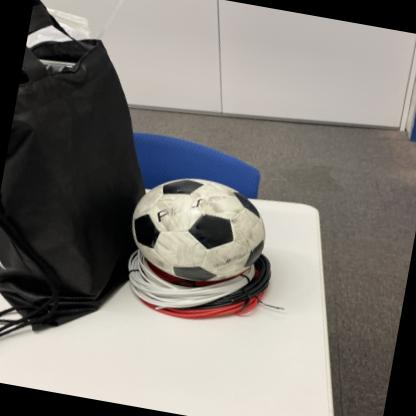ball: (121, 168, 272, 296)
